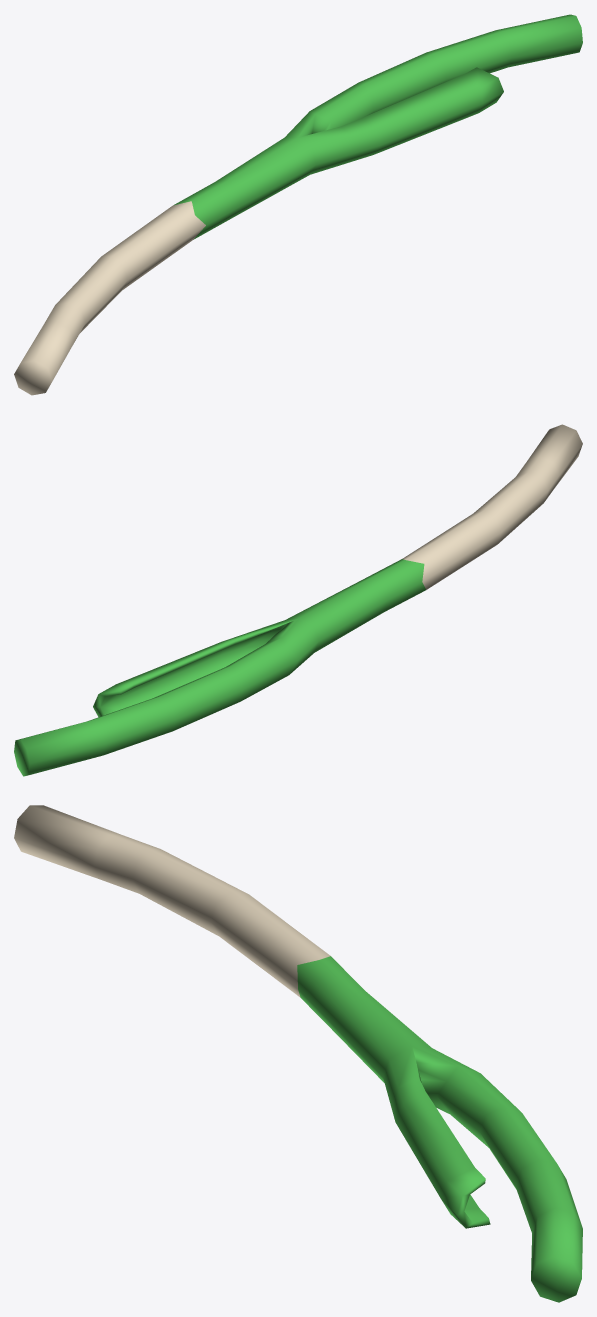
File: ASFTR_RawGreenOnion.fbx
3 renders of one model, top to bottom at view 1: azimuth 30°, elevation 25°; view 2: azimuth 210°, elevation 25°; view 3: azimuth 270°, elevation 25°, orthographic. The views are drawn at different scales.
Parts seen in each view (by area): view 1: ASFTR_RawOnion; view 2: ASFTR_RawOnion; view 3: ASFTR_RawOnion.
Part boxes in pixels (left/top/right/bottom): ASFTR_RawOnion: left=14, top=14, right=582, bottom=395; ASFTR_RawOnion: left=14, top=424, right=582, bottom=776; ASFTR_RawOnion: left=14, top=805, right=582, bottom=1302.
Size of the model in its own units: 84.93 by 5.76 by 42.61.
